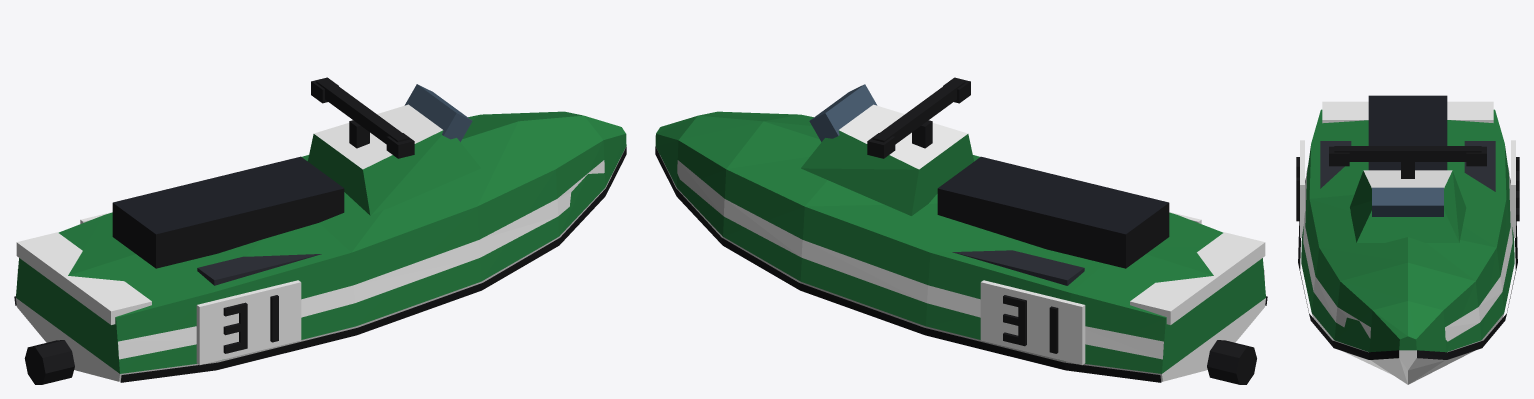
File: jetski_verde_body.obj
3 renders of one model, left to right at view 1: azimuth 30°, elevation 25°; view 2: azimuth 150°, elevation 25°; view 3: azimuth 270°, elevation 25°, orthographic. The views are drawn at different scales.
Visible parts, largest first — view 1: jetski_verde_body; view 2: jetski_verde_body; view 3: jetski_verde_body.
Boxes of the visible parts, x1,y1,x2,y2 form: jetski_verde_body: (14,77,626,384); jetski_verde_body: (655,77,1267,384); jetski_verde_body: (1296,95,1519,384).
Bounding box in the file's own units: 3.58 × 1.85 × 1.3.
